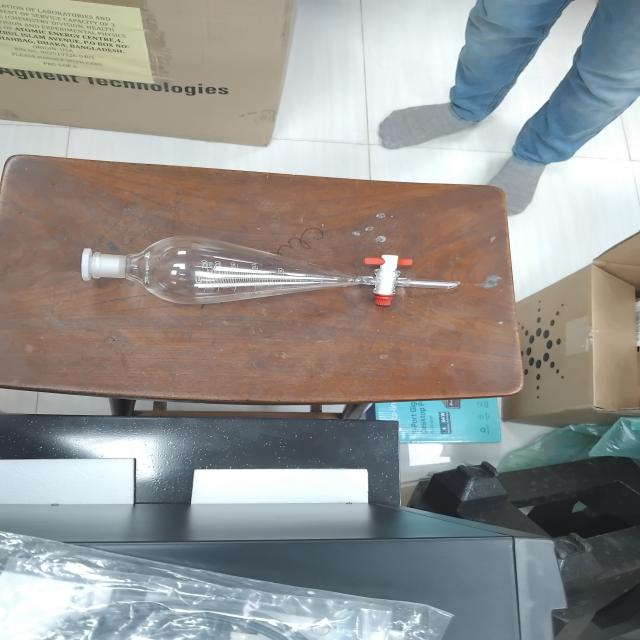Separating_Funnel: (54, 200, 482, 342)
